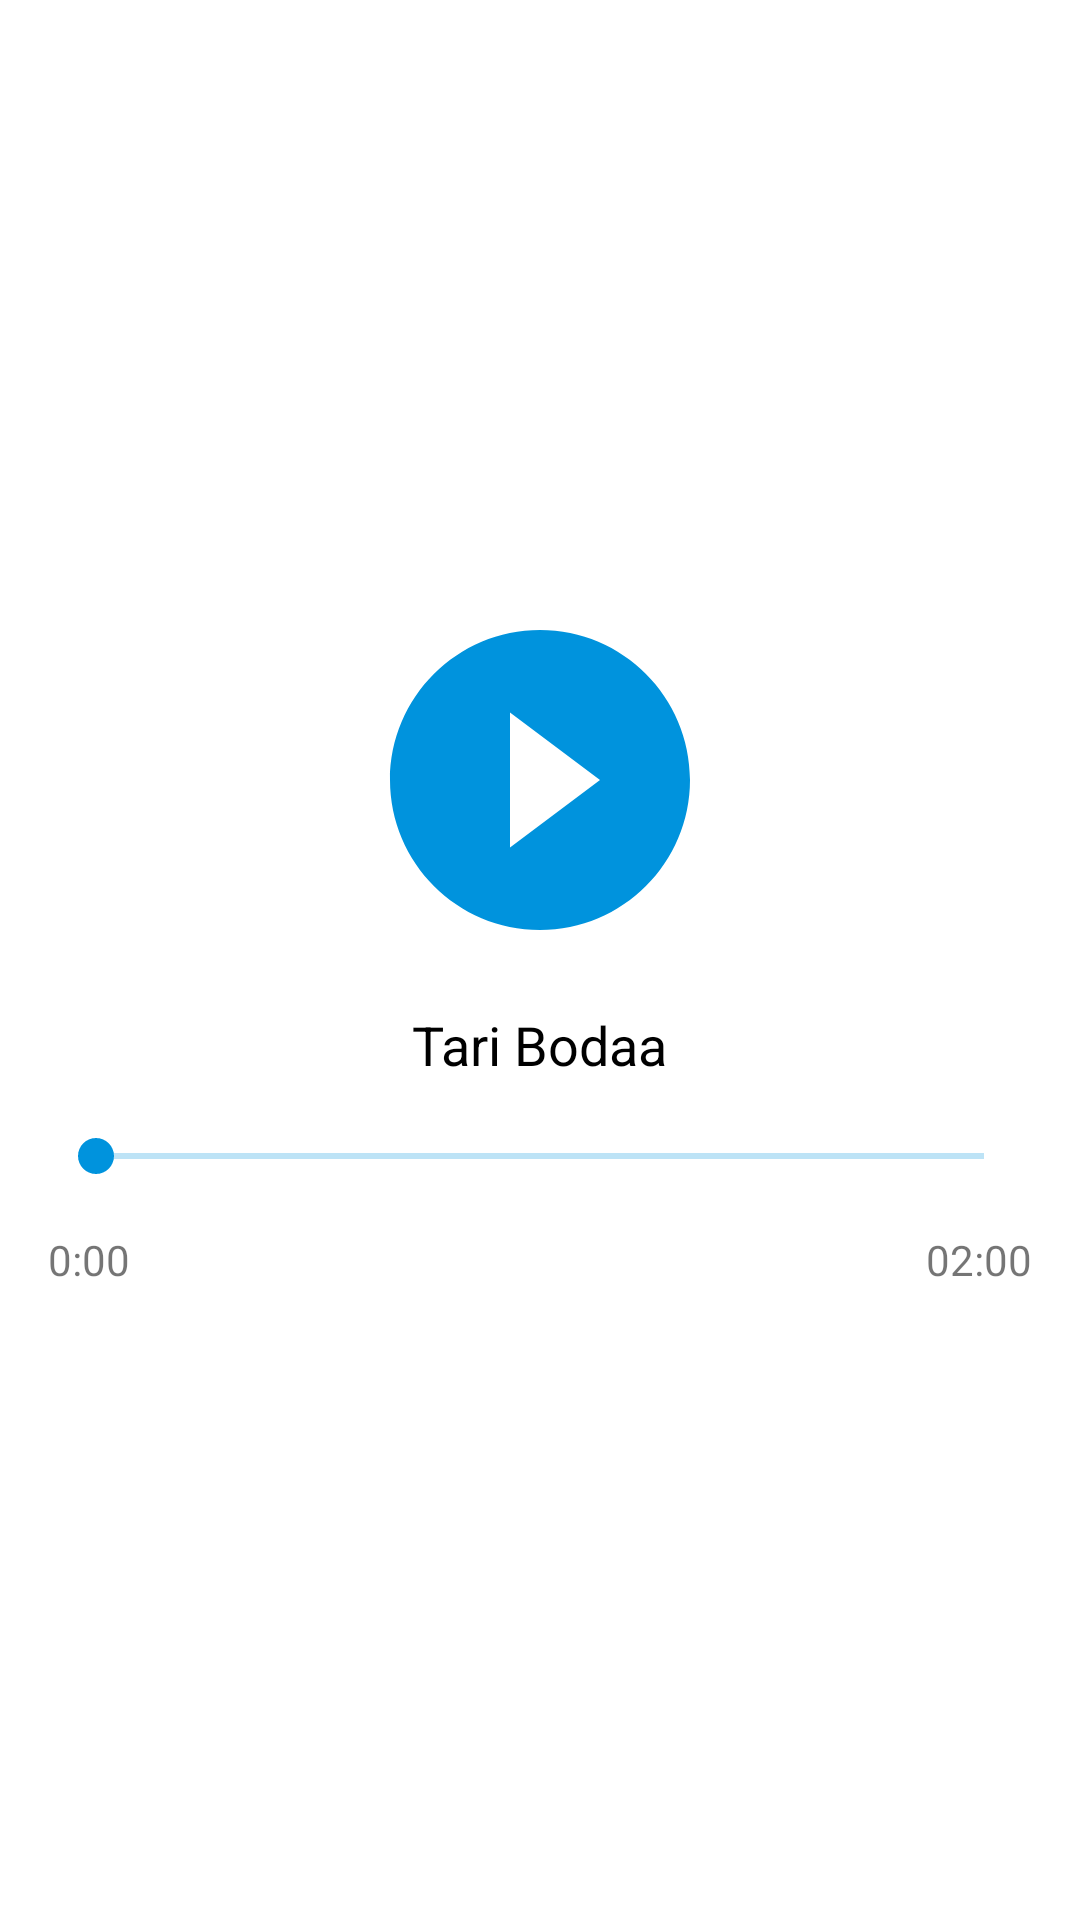

Screen size 1080*1920. Icon name, then its center in pixels as (x,y):
play circle: (540,780)
